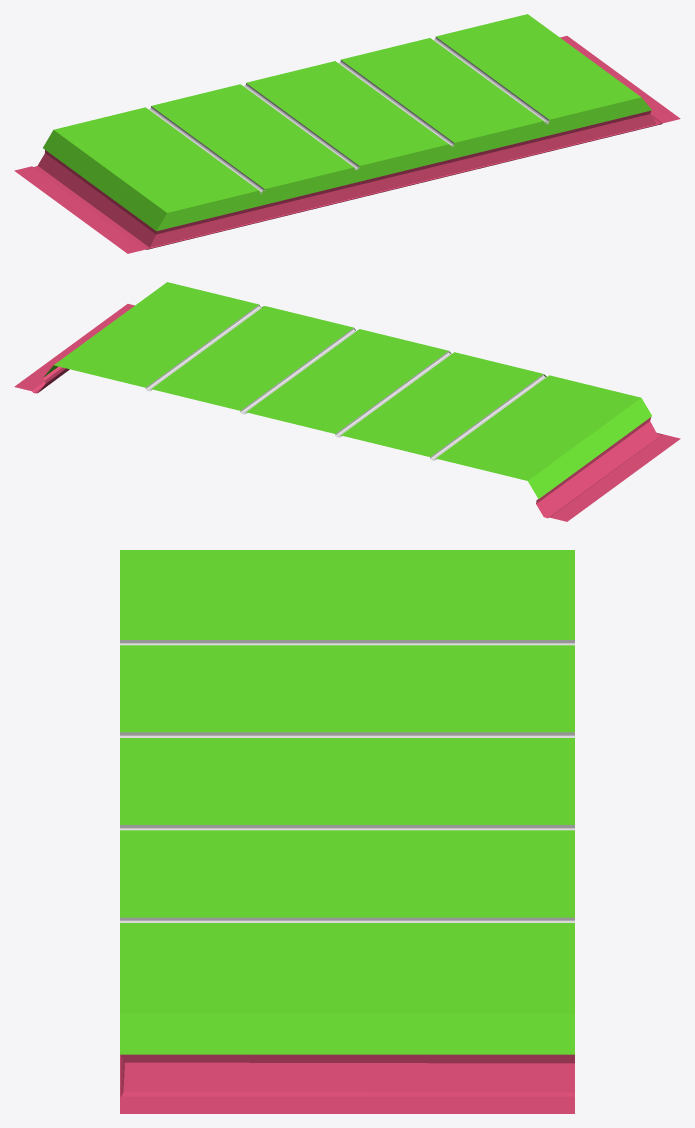
Rendered from L1V2_Small_Roof.fbx.
The picture shows the model from 3 angles, top to bottom: view 1: azimuth 30°, elevation 25°; view 2: azimuth 150°, elevation 25°; view 3: azimuth 270°, elevation 25°; orthographic projection. The views are drawn at different scales.
Visible parts, largest first — view 1: Plane.012; view 2: Plane.012; view 3: Plane.012.
Part boxes in pixels (x1,y1,x2,y2): Plane.012: (14, 14, 680, 253); Plane.012: (14, 282, 680, 521); Plane.012: (120, 550, 574, 1113).
Size of the model in its own units: 1506 by 84.89 by 537.
